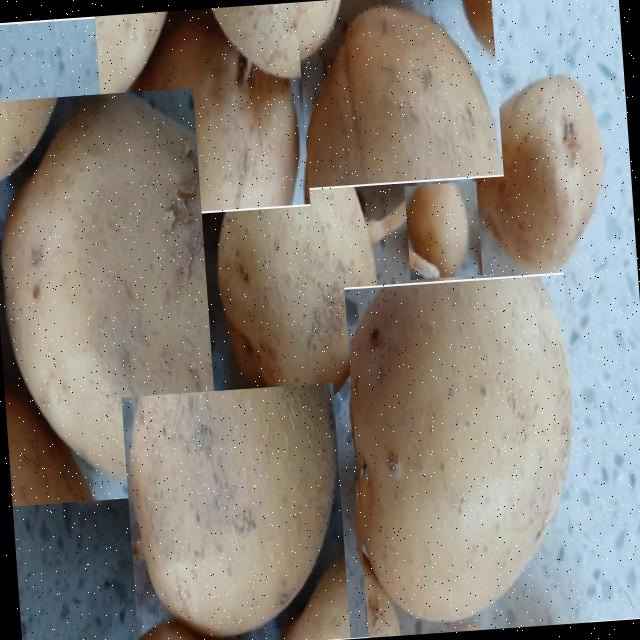Potato: (0, 86, 221, 505), (343, 271, 588, 637), (121, 381, 350, 640), (210, 126, 392, 424), (94, 0, 310, 218), (292, 0, 503, 188), (472, 66, 612, 278), (404, 180, 482, 278)
